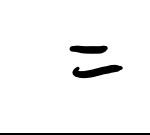eqv: (70, 45, 123, 78)
